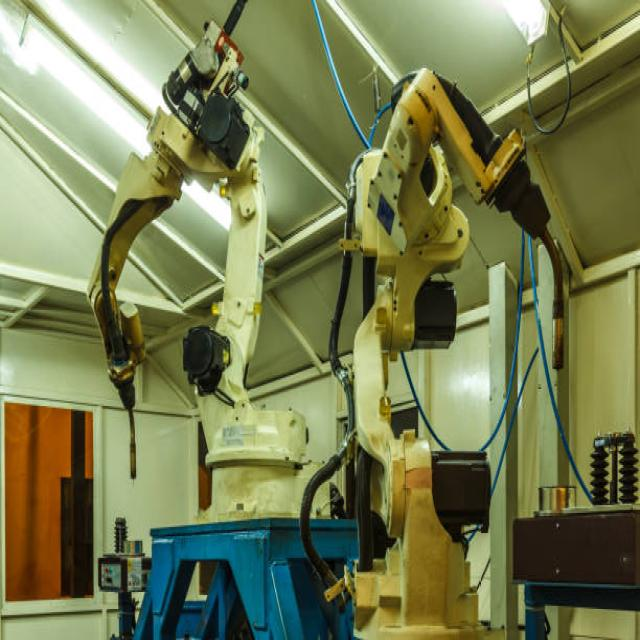Robotic-arm: (334, 55, 547, 640), (79, 14, 306, 514)
